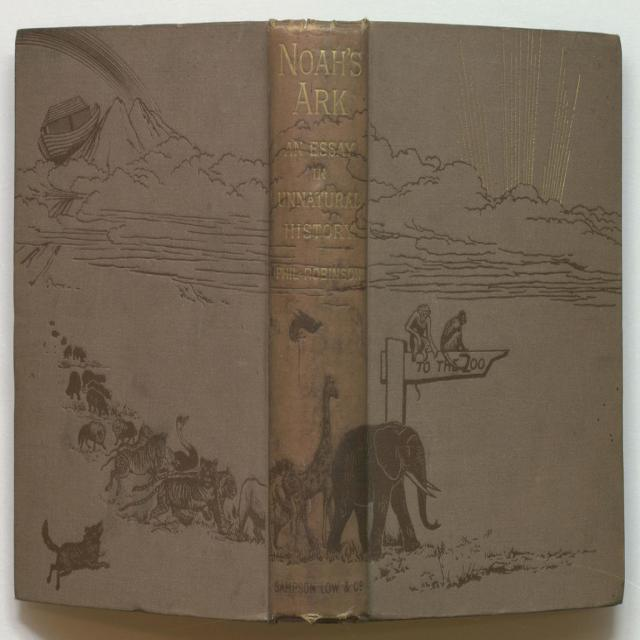elephant: (320, 409, 446, 568)
